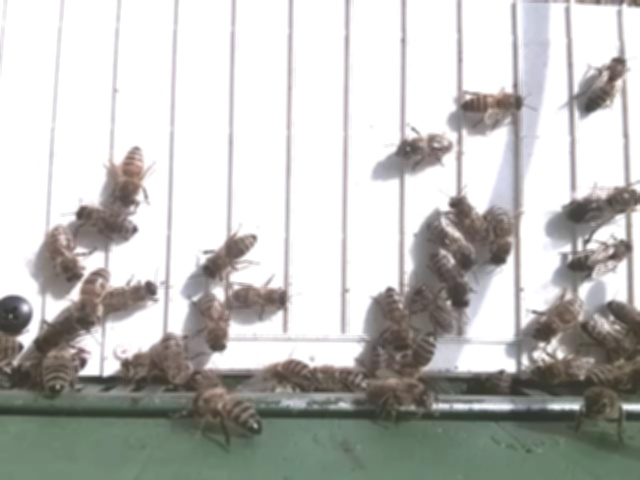Drone: (562, 182, 640, 228)
Worker: (581, 51, 629, 119), (199, 229, 262, 280), (72, 260, 113, 331), (426, 216, 478, 270), (564, 235, 632, 276), (430, 248, 474, 311), (414, 281, 462, 338), (533, 294, 586, 345), (78, 203, 141, 243), (44, 222, 84, 285), (195, 291, 233, 355), (114, 141, 147, 211), (394, 128, 456, 165), (106, 276, 162, 315), (380, 282, 411, 352), (232, 281, 291, 316), (460, 89, 526, 119), (409, 329, 441, 385), (489, 200, 514, 269)
